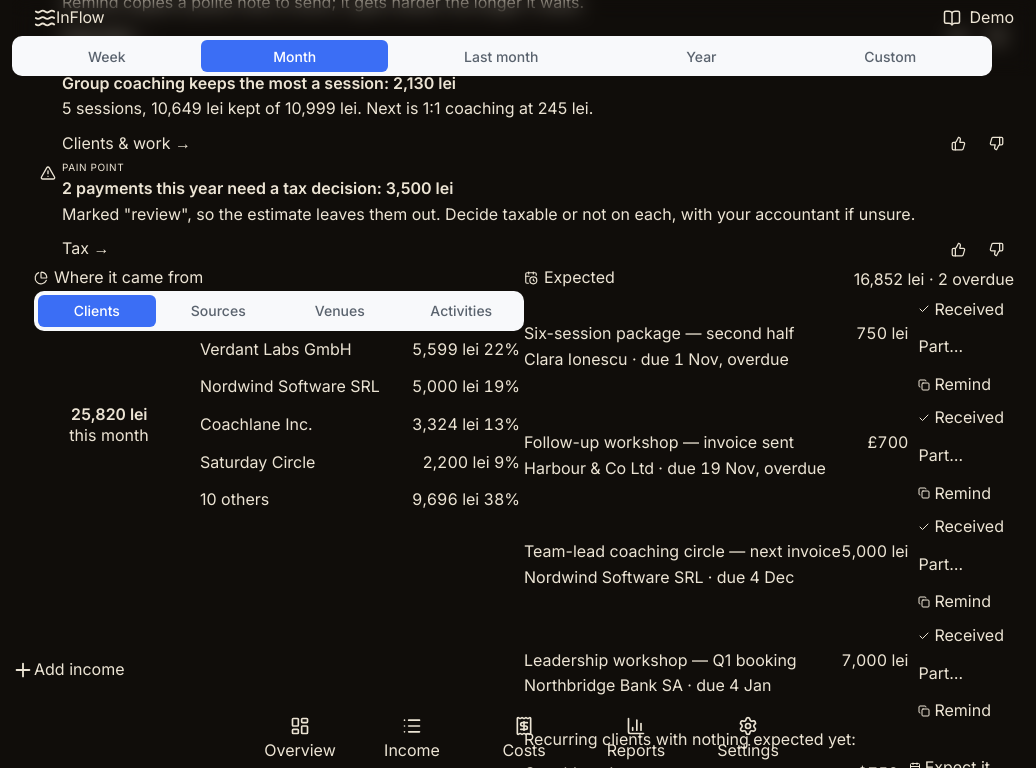
Scenario: small conveniences › copies a friendly reminder for an expected payment
The image size is (1036, 768).
(page scrolled)
Click the button with aria-label "Copy a reminder for": point(961, 385) [908,368,1014,401]
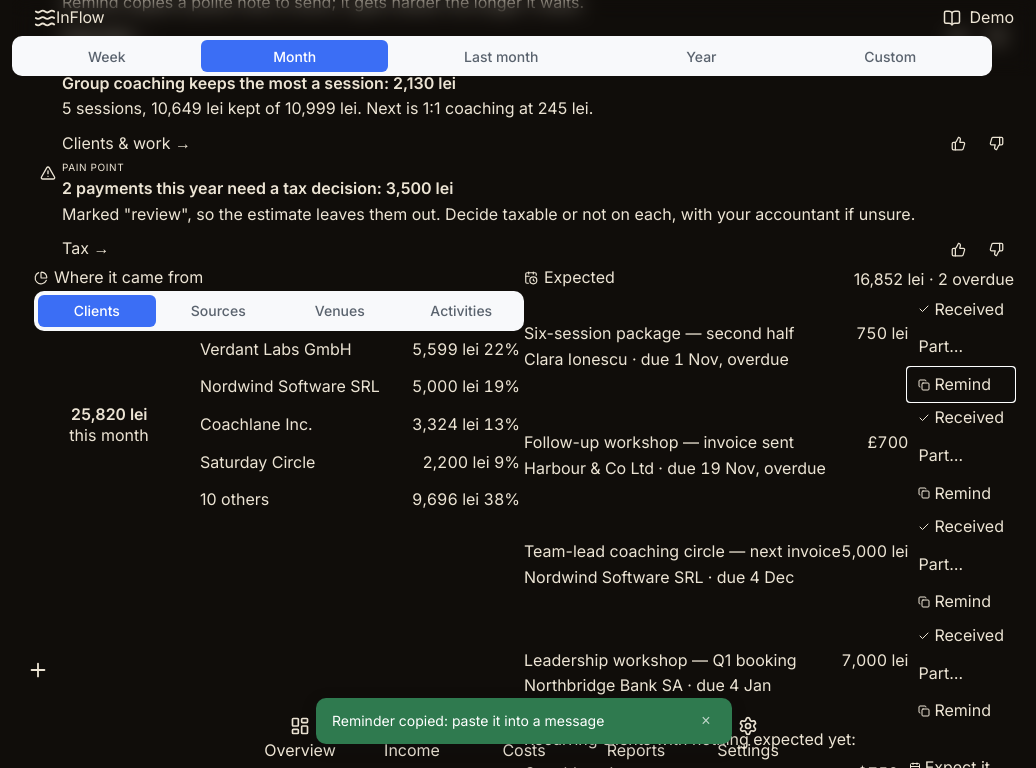
Expected: the text "Reminder copied: paste it into a message" is shown, [332,712,604,729]
